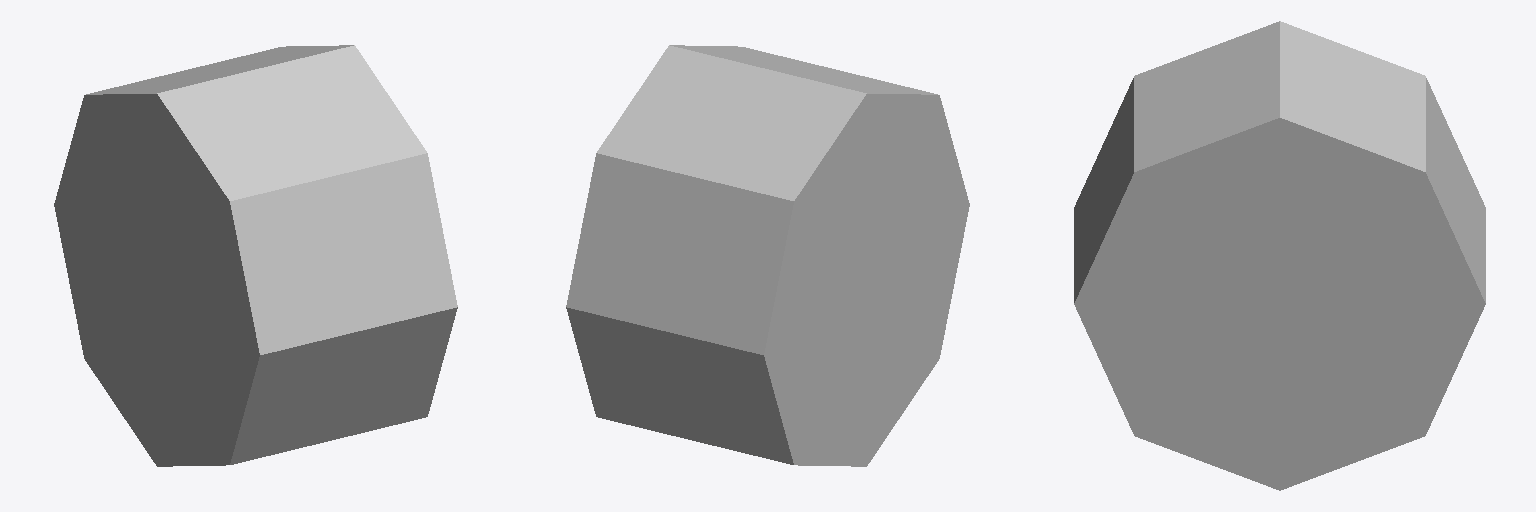
File: WheelFrontL.obj
The picture shows the model from 3 angles: view 1: azimuth 30°, elevation 25°; view 2: azimuth 150°, elevation 25°; view 3: azimuth 270°, elevation 25°; orthographic projection.
Visible parts, largest first — view 1: WheelFrontL; view 2: WheelFrontL; view 3: WheelFrontL.
Part boxes in pixels (left/top/right/bottom): WheelFrontL: left=54, top=45, right=457, bottom=466; WheelFrontL: left=566, top=45, right=969, bottom=466; WheelFrontL: left=1074, top=21, right=1485, bottom=490.
Size of the model in its own units: 0.6252 by 1.13 by 1.13.